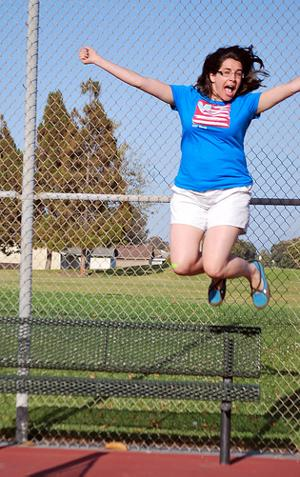person: (79, 40, 299, 308)
